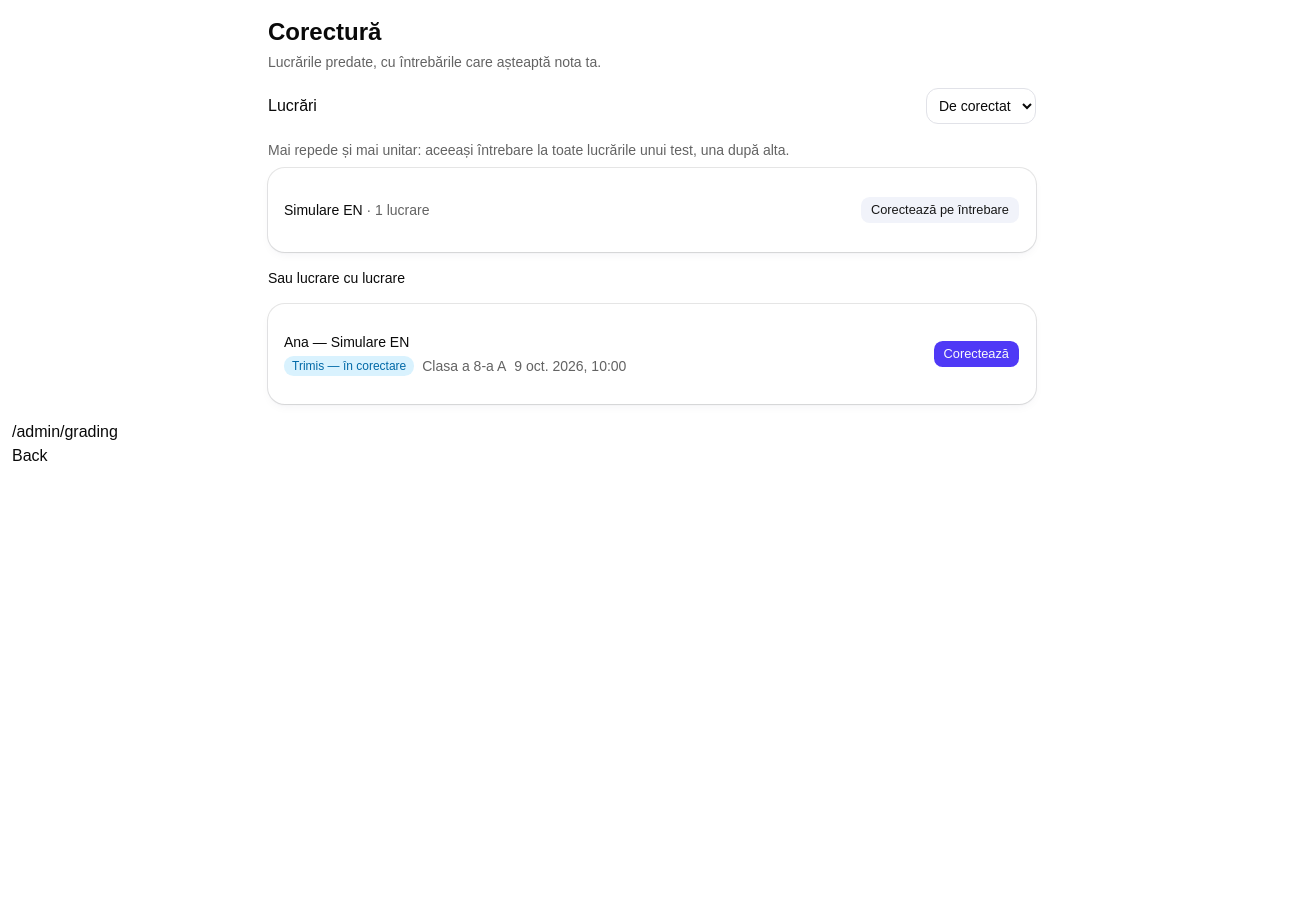
it: AdminGradingPage › saves a comment for the student together with the points, with no Save button
Click the button with test id "attempt-open".
click(976, 354)  # box [932, 340, 1020, 368]
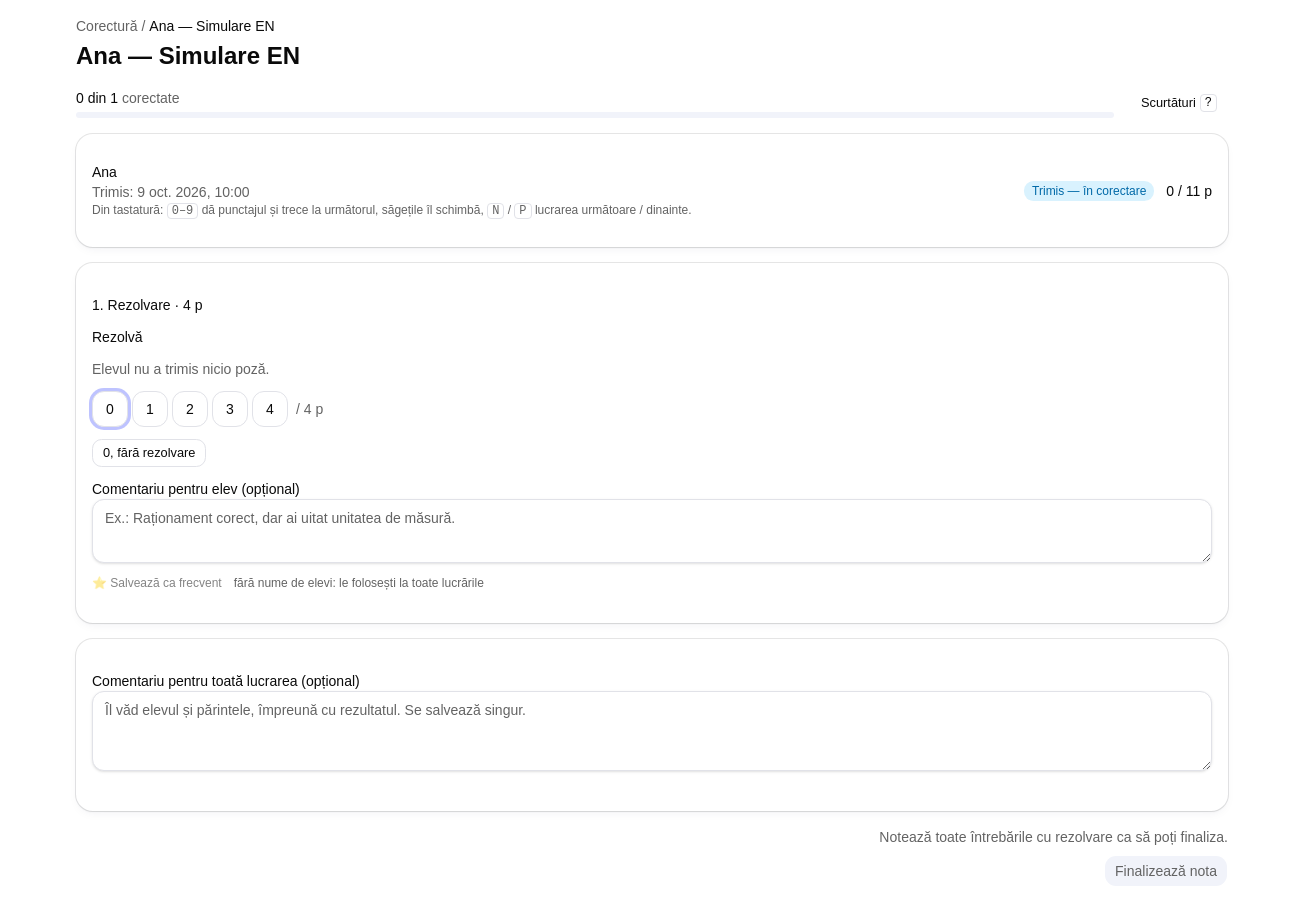
Now the text "Rezolvă" is shown, box [92, 329, 143, 345]
Type "Ai uitat unitatea." into the text box labelled "Comentariu pentru elev (opțional)".
click(652, 531); type("Ai uitat unitatea.")  # box [92, 499, 1212, 563]
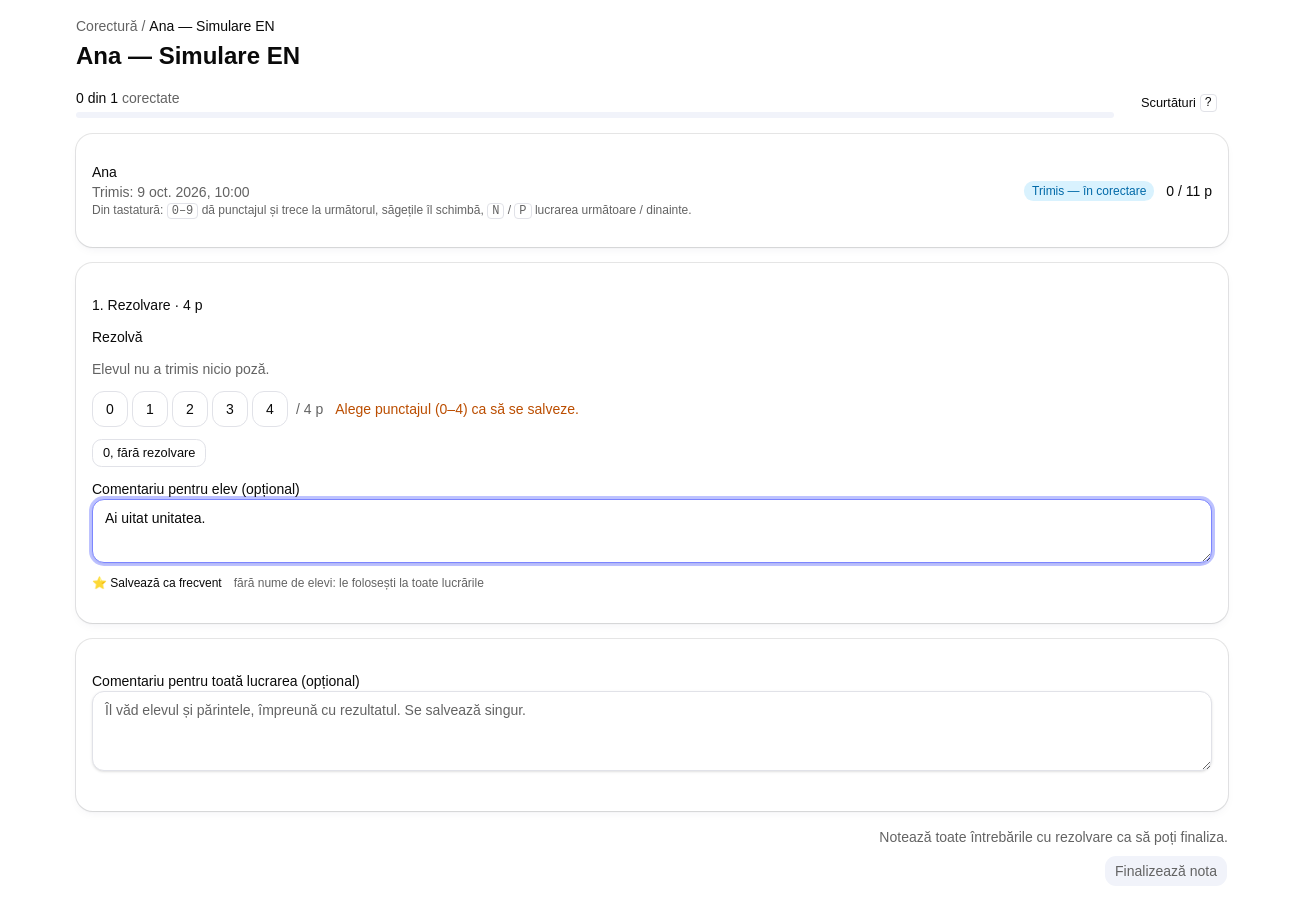
Click the radio button labelled "3".
click(230, 409)  # box [212, 391, 248, 427]
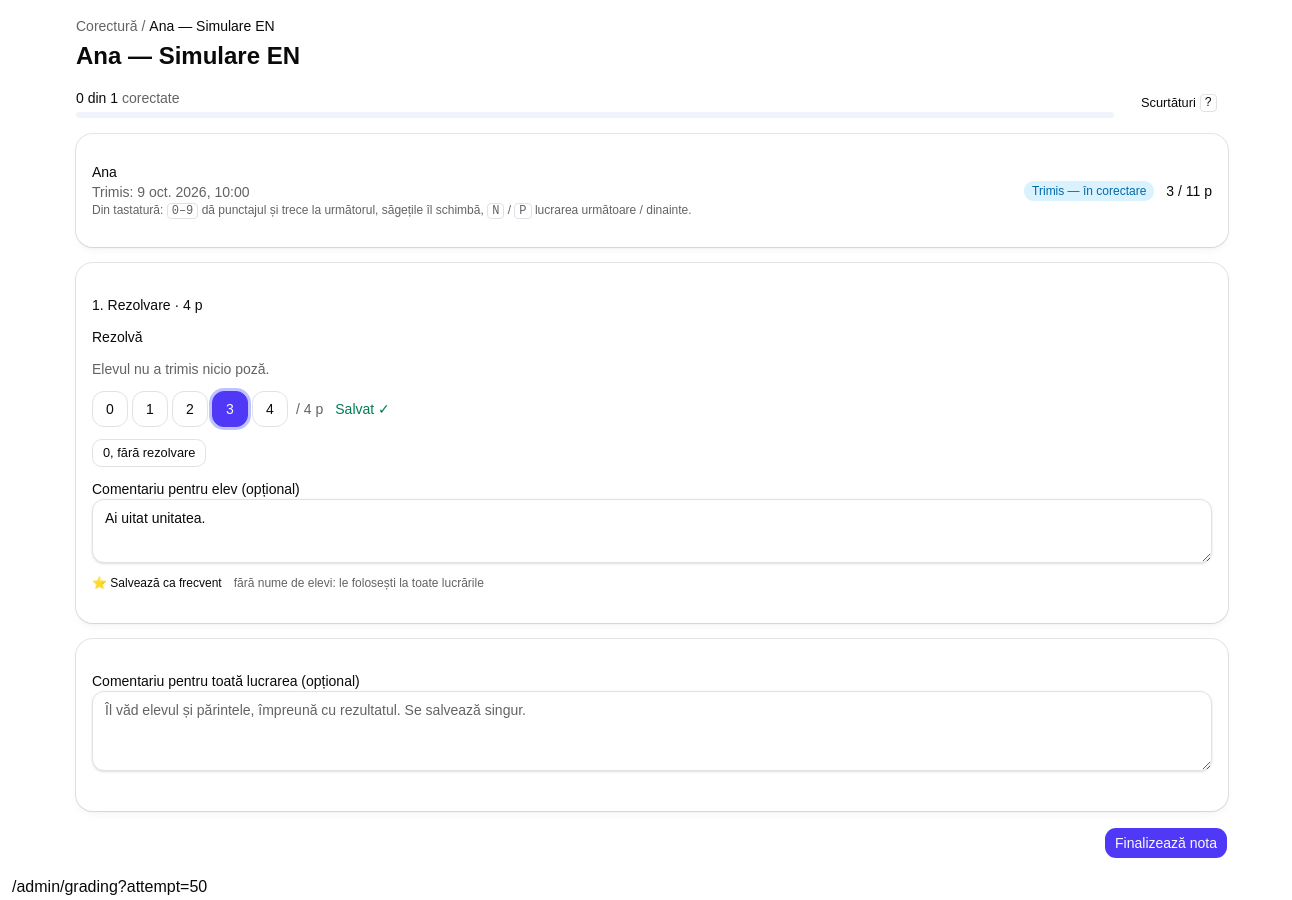
Now the text "Salvat ✓" is shown, box [335, 401, 390, 417]
